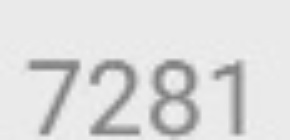TextView: (1, 1, 289, 139)
